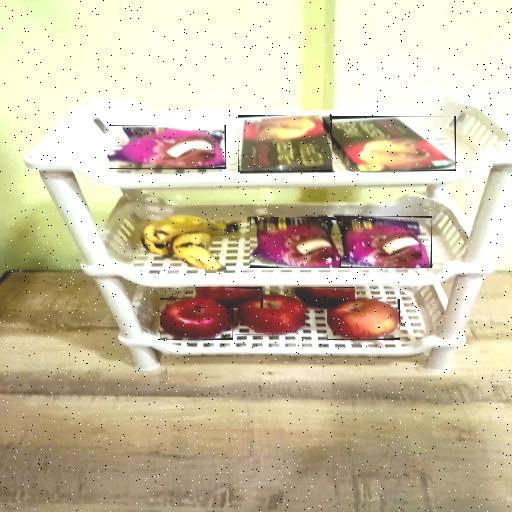Apple: (160, 298, 233, 340), (327, 299, 400, 340), (234, 295, 304, 335), (195, 287, 262, 308), (292, 287, 354, 309)
Choco Fills: (325, 116, 456, 171), (238, 115, 332, 172)
Choco Pie: (109, 125, 226, 169), (335, 216, 432, 268), (248, 217, 340, 268)
